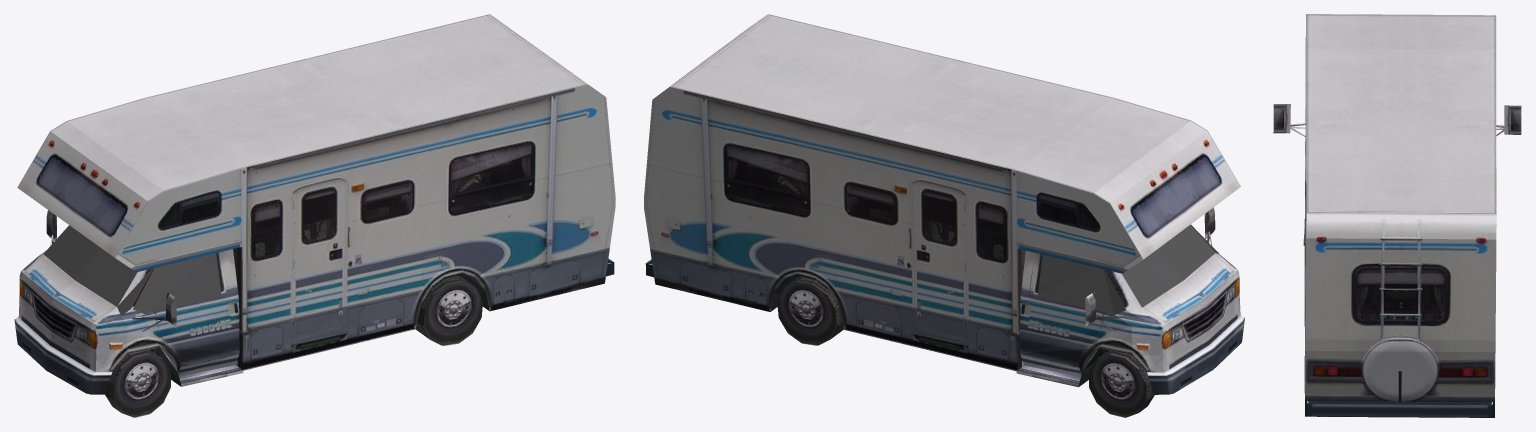
The model's file is school bus.fbx.
The picture shows the model from 3 angles, left to right: view 1: azimuth 30°, elevation 25°; view 2: azimuth 150°, elevation 25°; view 3: azimuth 270°, elevation 25°; orthographic projection. The views are drawn at different scales.
Parts seen in each view (by area): view 1: school_bus; view 2: school_bus; view 3: school_bus.
Part boxes in pixels (x1,y1,x2,y2): school_bus: (14, 14, 615, 417); school_bus: (644, 14, 1244, 417); school_bus: (1273, 14, 1521, 417).
Bounding box in the file's own units: 538 × 226 × 229.
